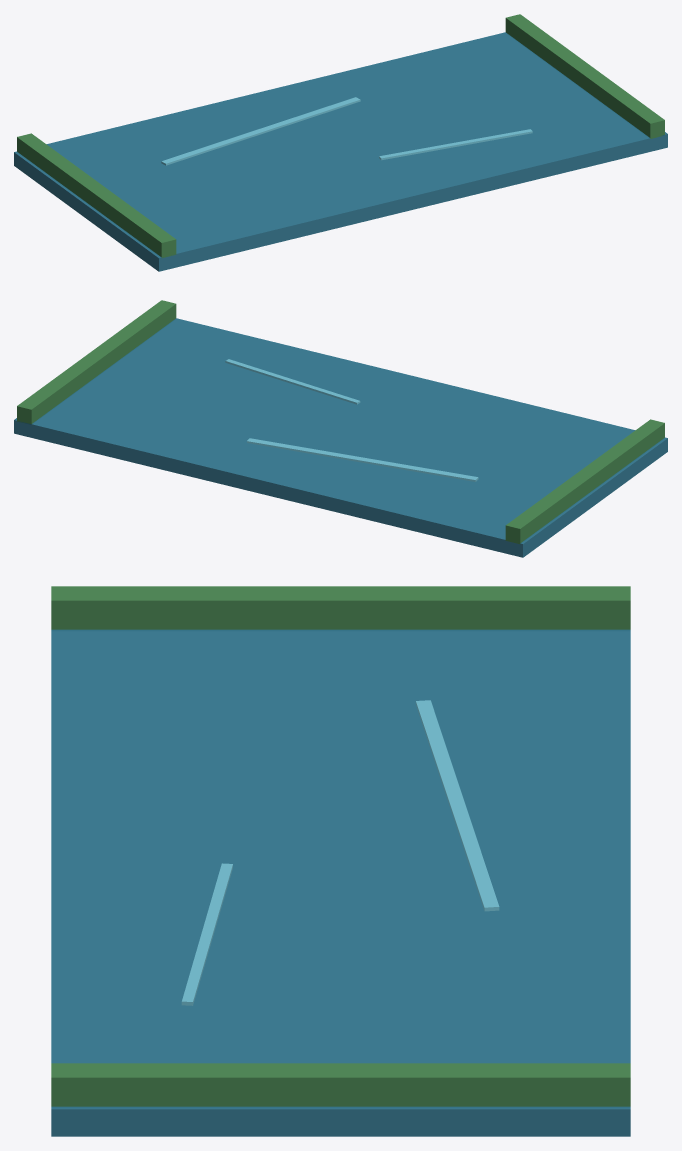
File: track_boat_3lane.glb
3 views of the same model, one above another, from view 1: azimuth 30°, elevation 25°; view 2: azimuth 150°, elevation 25°; view 3: azimuth 270°, elevation 25° (orthographic). The views are drawn at different scales.
Parts seen in each view (by area): view 1: track_boat_3lane; view 2: track_boat_3lane; view 3: track_boat_3lane.
Boxes of the visible parts, x1=… form: track_boat_3lane: x1=14, y1=14, x2=667, y2=271; track_boat_3lane: x1=14, y1=300, x2=667, y2=557; track_boat_3lane: x1=51, y1=586, x2=630, y2=1136.
Bounding box in the file's own units: 6.25 × 0.33 × 3.08.
